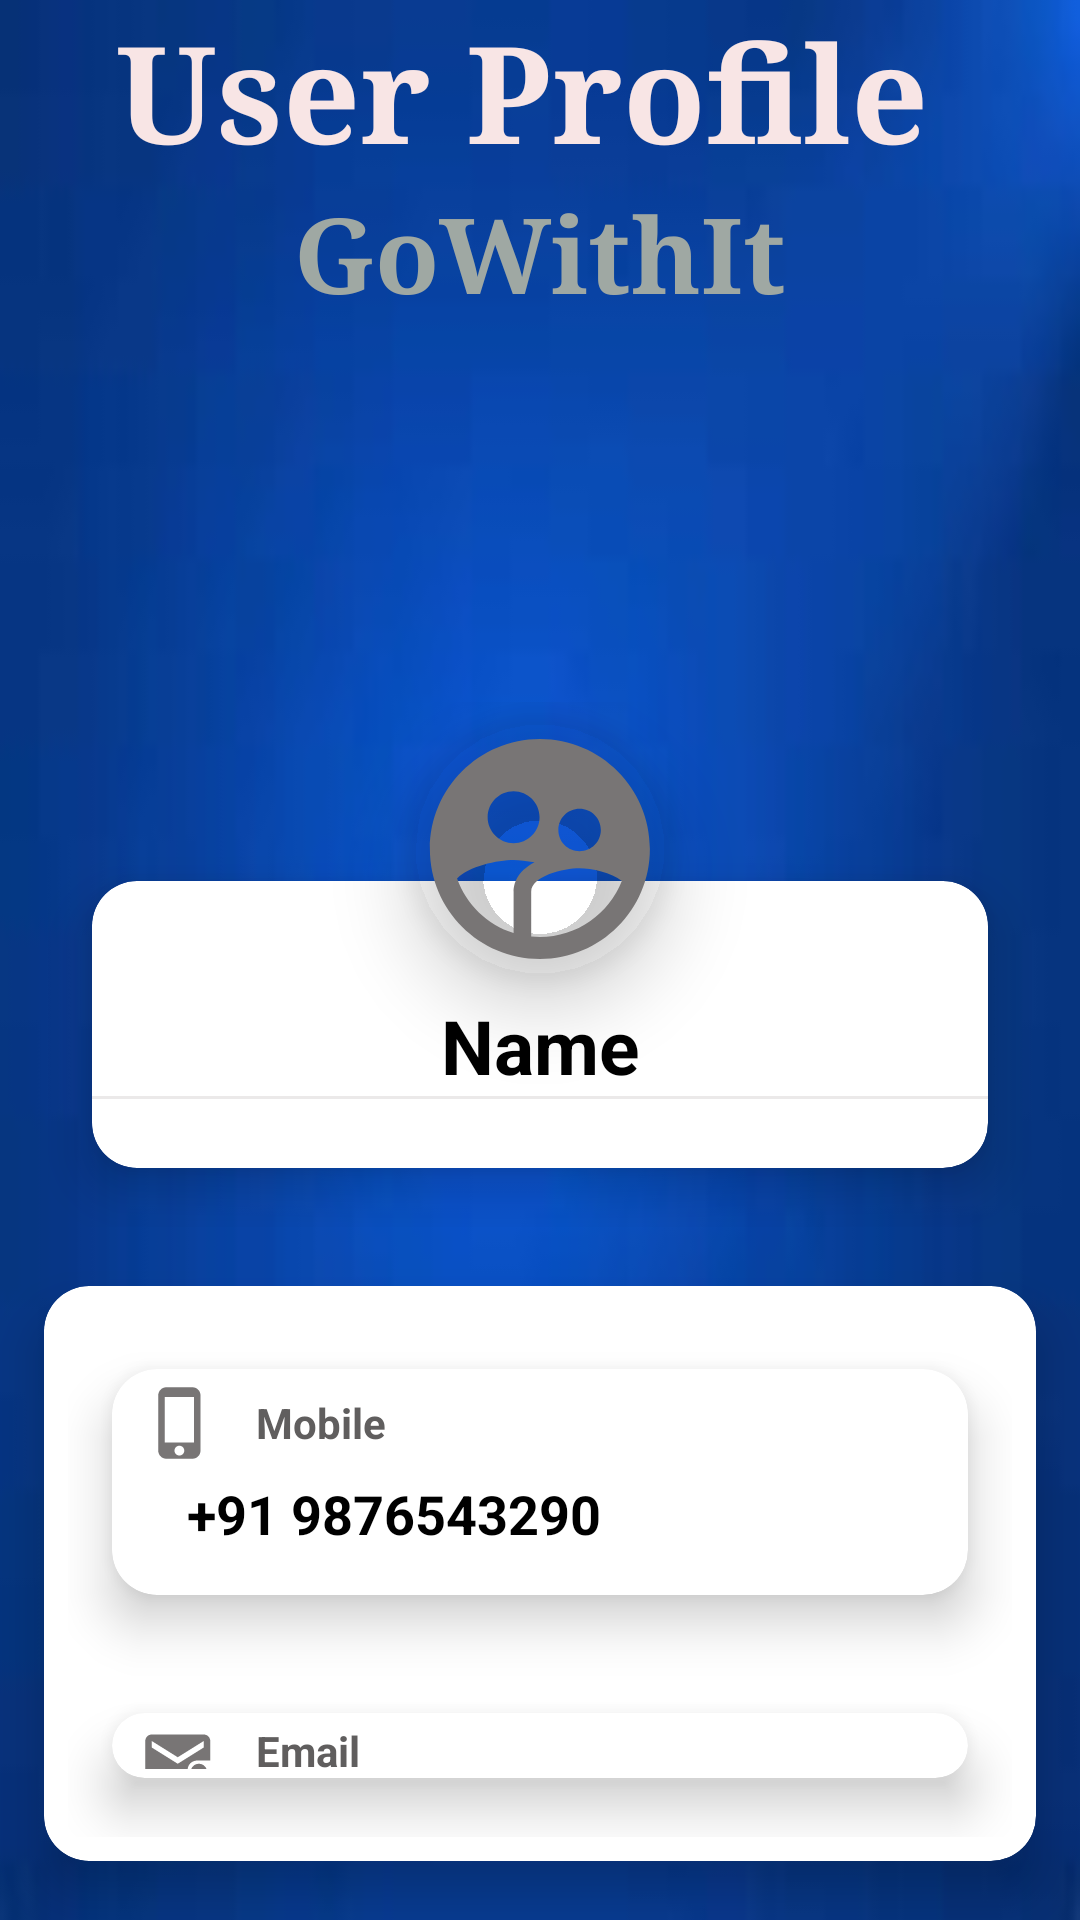

Icon click points for this 1080px×1920px phone screenshot, format (x,y):
phoneicon: (179,1423)
userprofile: (540,849)
